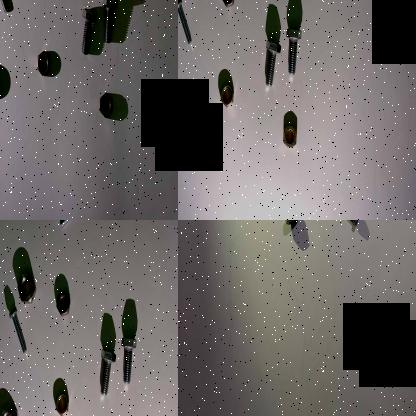Bolts: (93, 338, 118, 402), (258, 29, 282, 92), (3, 300, 28, 360), (116, 330, 136, 392), (281, 22, 301, 82), (78, 5, 98, 60), (97, 0, 119, 44), (178, 0, 192, 50), (327, 220, 359, 238), (56, 220, 90, 233), (276, 220, 299, 233)
NUTS: (277, 116, 301, 154), (92, 90, 117, 122), (16, 268, 36, 306), (32, 47, 56, 77), (52, 286, 72, 322), (218, 80, 234, 108), (53, 388, 69, 416), (0, 401, 18, 416), (216, 0, 236, 13), (178, 92, 183, 132)
